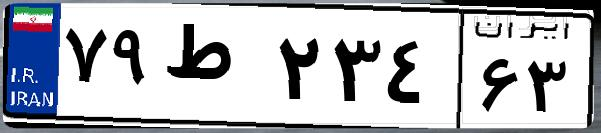2: (270, 28, 330, 110)
3: (330, 28, 385, 110), (525, 38, 570, 115)
4: (385, 28, 445, 110)
6: (475, 38, 525, 113)
7: (57, 26, 110, 100)
9: (110, 28, 158, 98)
ط: (158, 20, 270, 120)
